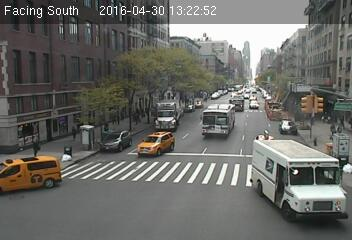neg: (146, 61, 162, 83), (267, 151, 282, 171), (152, 141, 165, 159), (272, 64, 285, 80), (211, 113, 223, 129), (244, 83, 256, 98), (236, 100, 247, 115), (241, 44, 252, 59), (298, 58, 309, 73), (5, 164, 15, 178), (200, 27, 209, 39), (127, 40, 136, 51), (243, 148, 251, 159), (312, 168, 320, 178), (210, 88, 218, 98), (187, 49, 194, 58), (220, 59, 224, 65)
pos: (130, 105, 145, 125), (28, 139, 41, 157), (66, 124, 79, 142), (335, 123, 345, 136), (327, 124, 336, 137)
